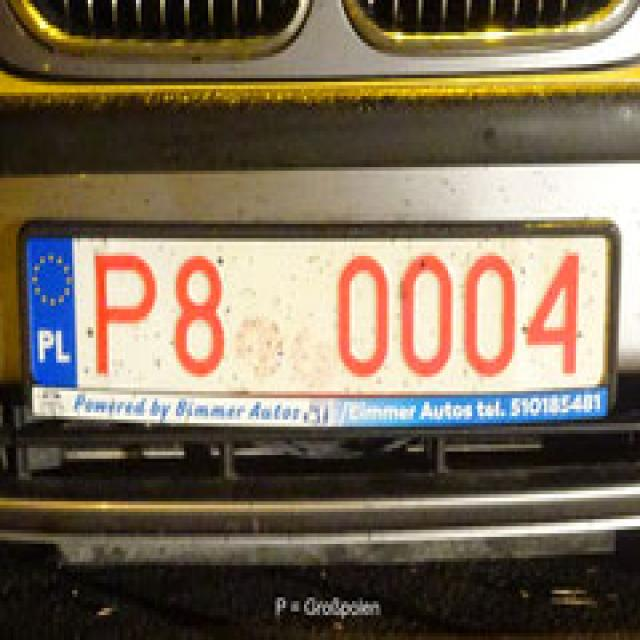pl_license_plate: (24, 235, 605, 388)
